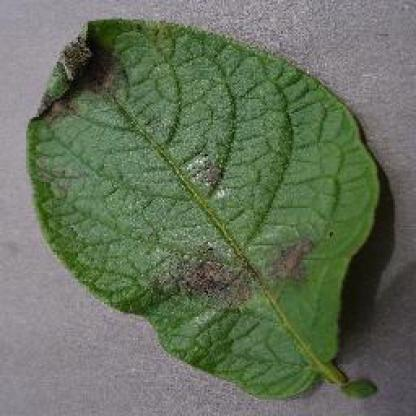bad leaf: (26, 0, 404, 415)
